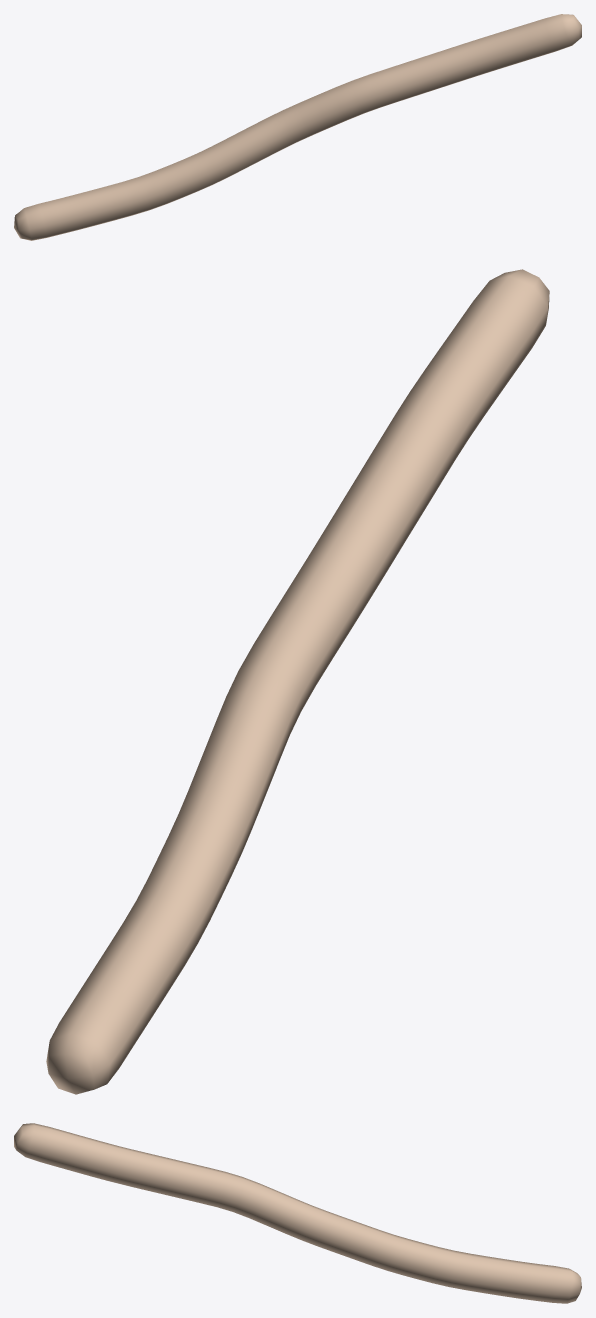
3 views of the same model, one above another, from view 1: azimuth 90°, elevation 25°; view 2: azimuth 150°, elevation 25°; view 3: azimuth 270°, elevation 25° (orthographic). The views are drawn at different scales.
Parts seen in each view (by area): view 1: 左侧小指伸肌腱鞘; view 2: 左侧小指伸肌腱鞘; view 3: 左侧小指伸肌腱鞘.
Boxes of the visible parts, x1,y1,x2,y2 form: 左侧小指伸肌腱鞘: (14, 14, 581, 240); 左侧小指伸肌腱鞘: (46, 269, 549, 1094); 左侧小指伸肌腱鞘: (14, 1123, 581, 1303).
Size of the model in its own units: 0.0178 by 0.0426 by 0.1092.
